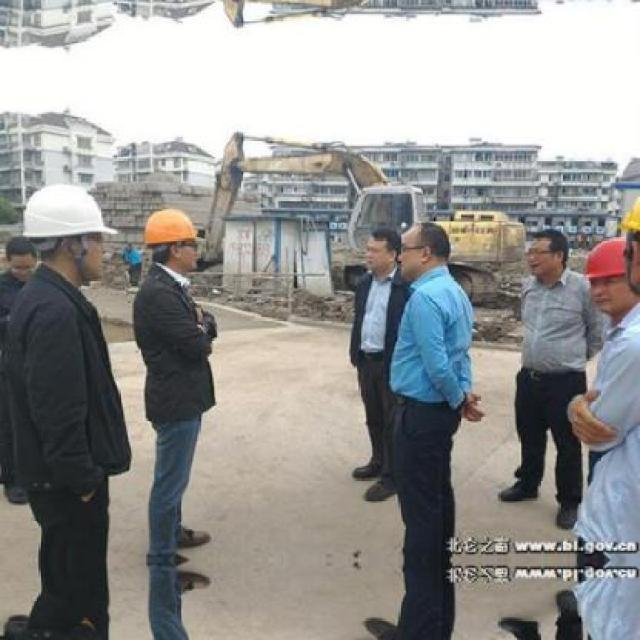helmet: (14, 168, 121, 287), (580, 230, 638, 318), (137, 204, 206, 276)
